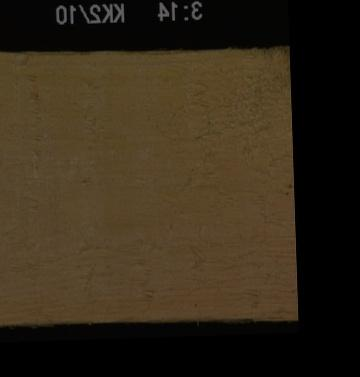small_knot: (276, 182, 293, 196)
